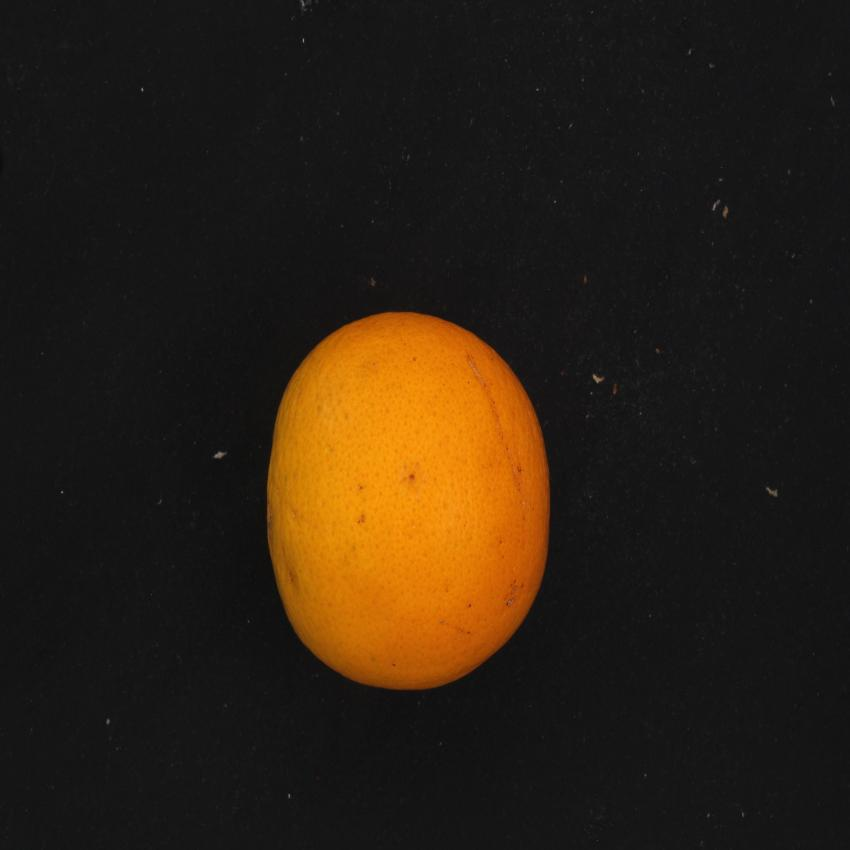Buen estado: (262, 300, 564, 705)
